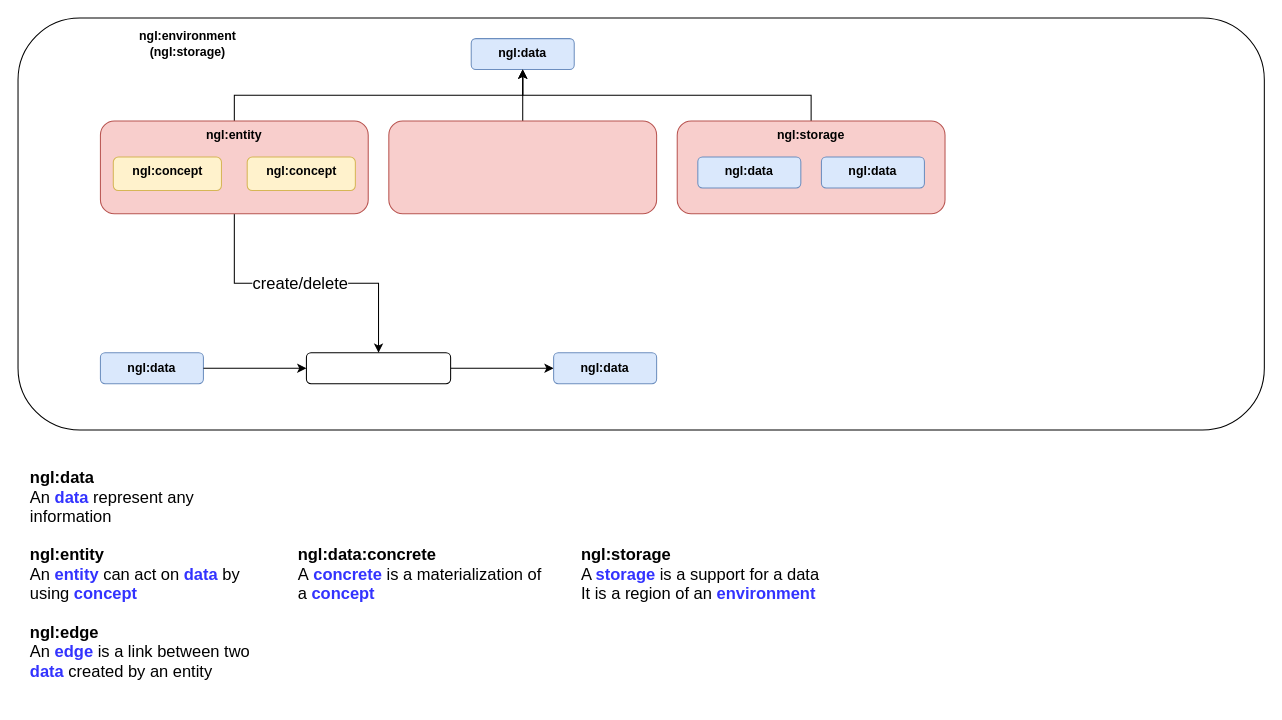
The diagram is 1282 pixels wide and 720 high, and some of its shapes have lost their labels. The shapes that lost their labels are listed below. From the top down, each one's centre as x and y in pixels, then its label:
(522,167): ngl:data:concrete
(378,368): ngl:edge
